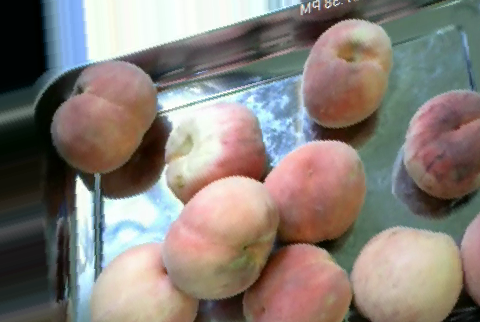Peach: (165, 177, 274, 298), (50, 58, 157, 174), (350, 226, 462, 322), (161, 102, 264, 205), (264, 138, 364, 244), (301, 16, 391, 126), (403, 85, 478, 203), (91, 243, 201, 322), (242, 244, 350, 321)
